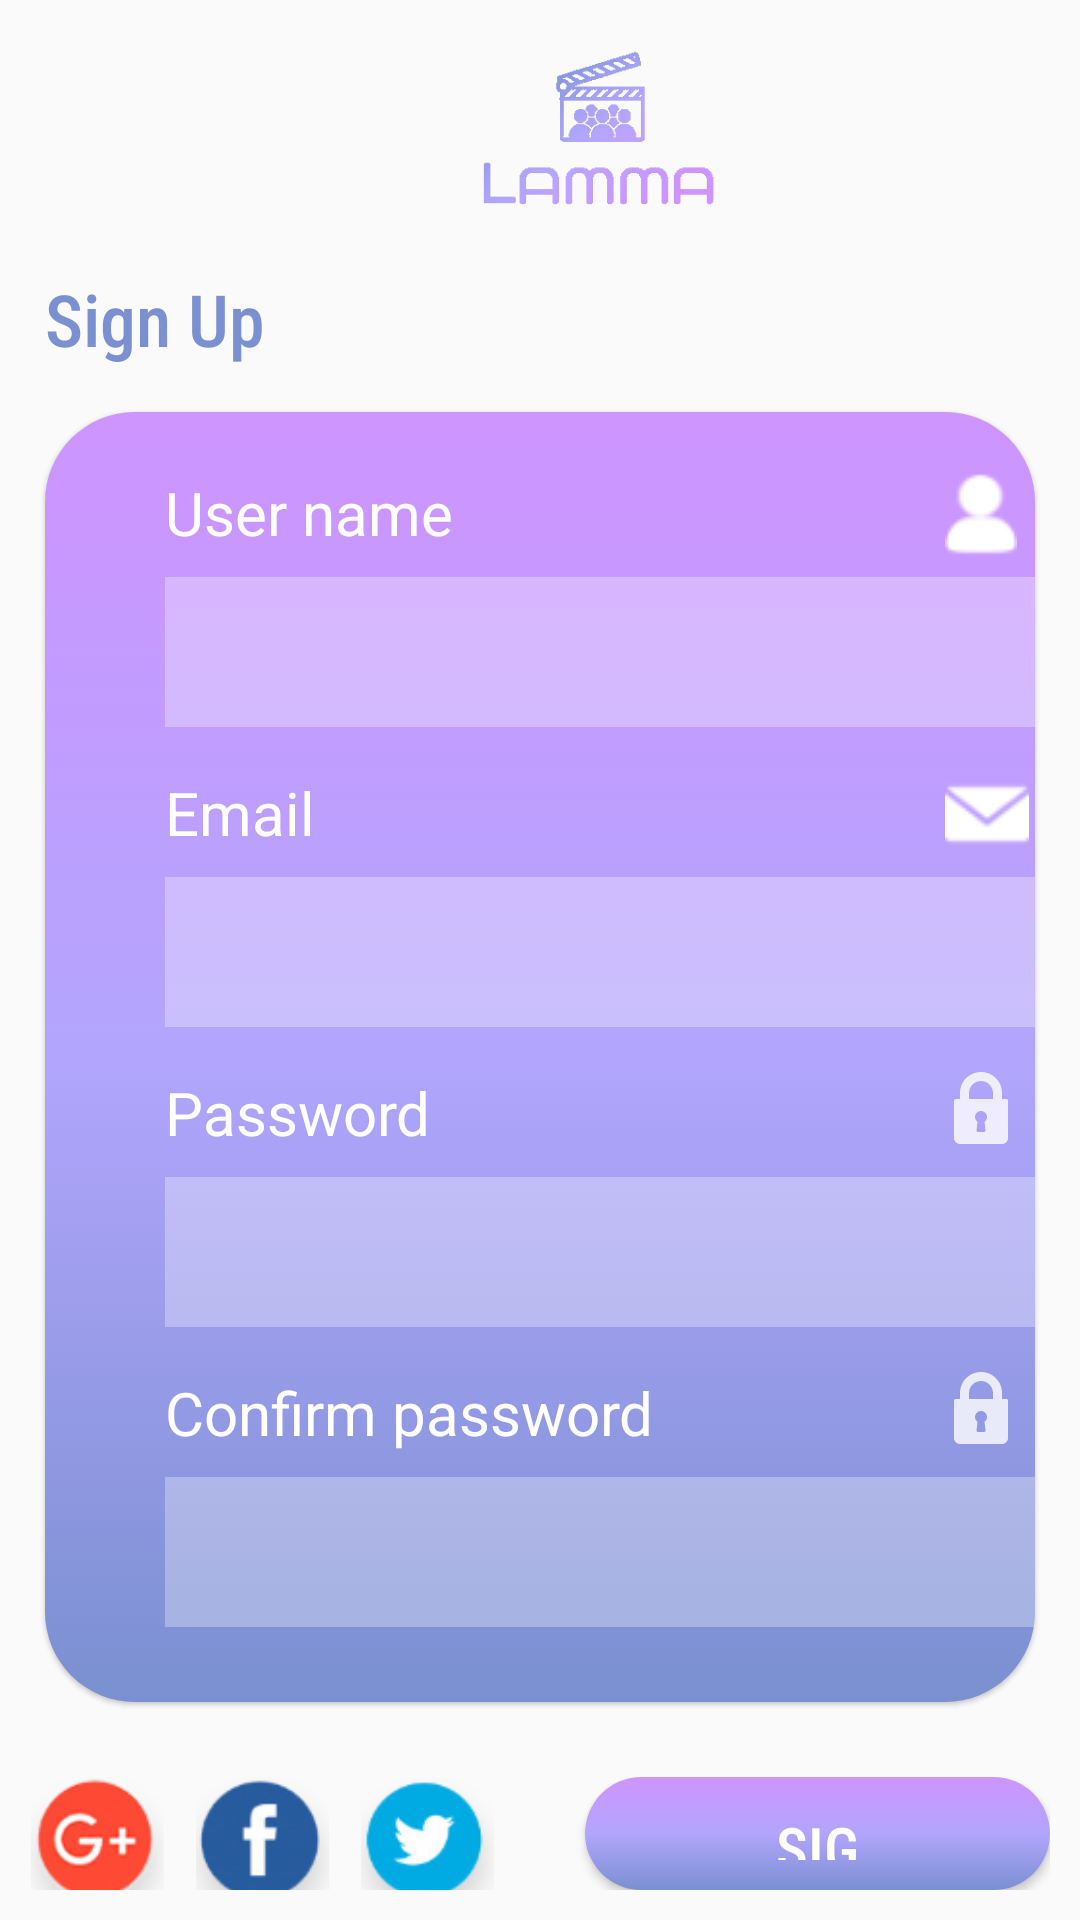

Screen size 1080×1920. Icon name, then its center in pixels as point (x, y):
emailicon: point (987, 814)
lock: point (981, 1108), point (981, 1408)
usericon: point (981, 514)
